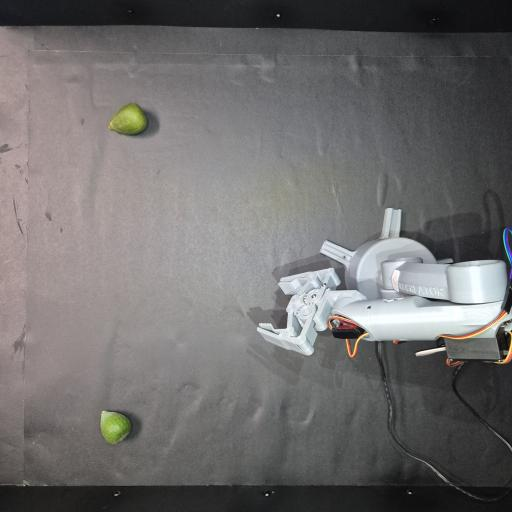higo: (108, 103, 148, 136), (100, 411, 131, 443)
